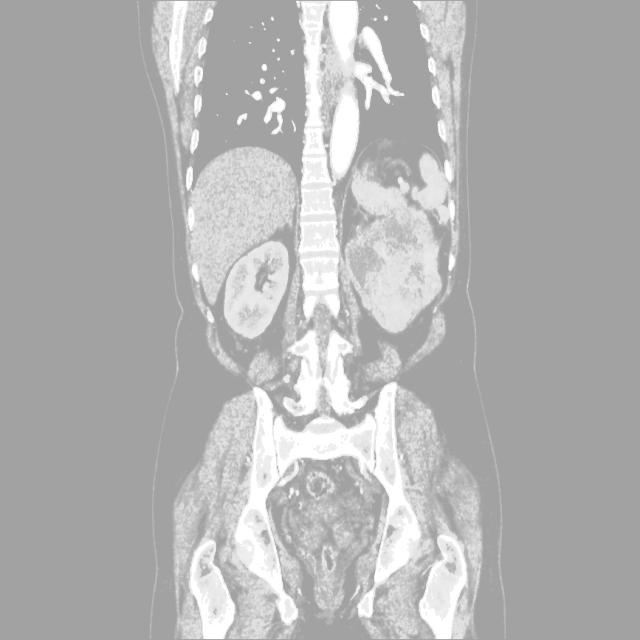TUMOR: (148, 192, 476, 380)
